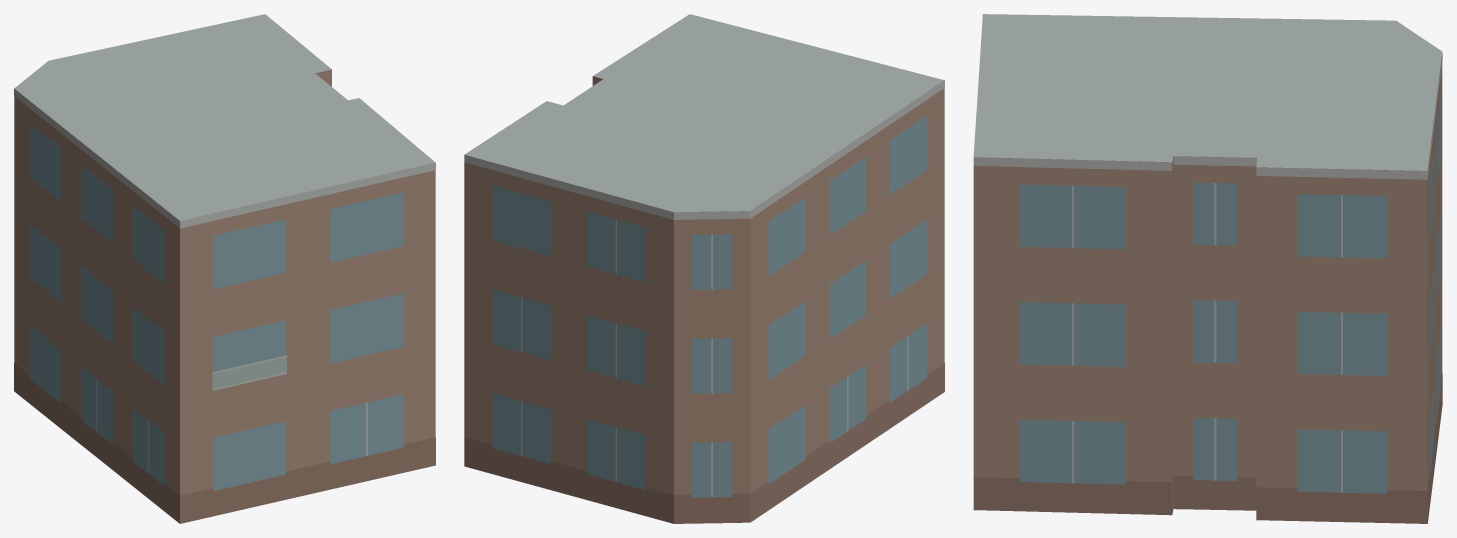
Rendered from survey-upis-32809470.glb.
The picture shows the model from 3 angles, left to right: view 1: azimuth 30°, elevation 25°; view 2: azimuth 150°, elevation 25°; view 3: azimuth 270°, elevation 25°; orthographic projection. The views are drawn at different scales.
Parts seen in each view (by area): view 1: survey-upis-32809470.tmp; view 2: survey-upis-32809470.tmp; view 3: survey-upis-32809470.tmp.
Boxes of the visible parts, x1,y1,x2,y2 form: survey-upis-32809470.tmp: [14, 14, 435, 523]; survey-upis-32809470.tmp: [464, 14, 944, 523]; survey-upis-32809470.tmp: [973, 14, 1442, 523].
Bounding box in the file's own units: 9.45 × 9.9 × 11.93.
